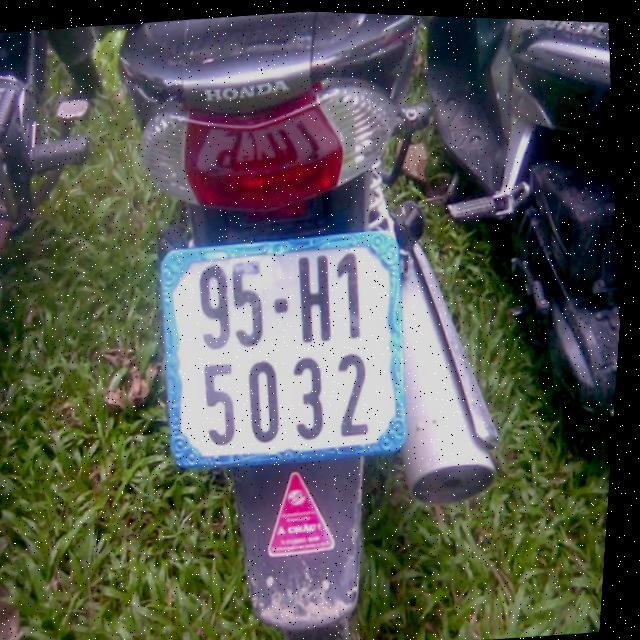motorcycle: (67, 4, 551, 640), (386, 15, 640, 459)
plate: (137, 215, 430, 480)
